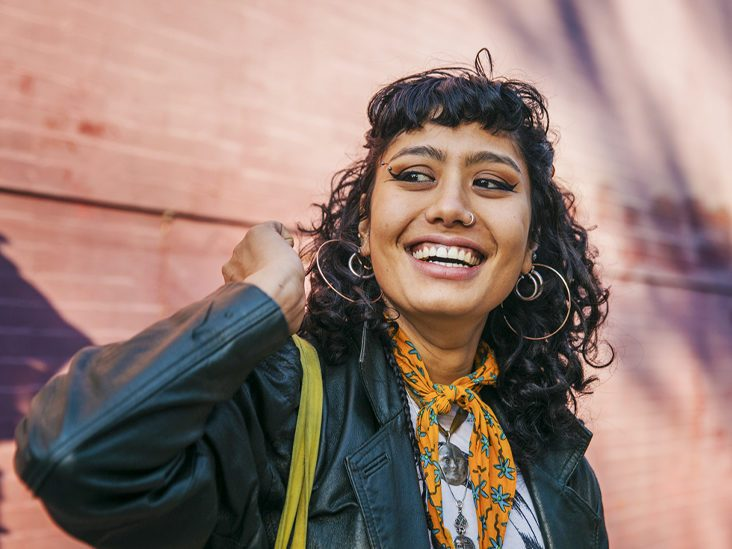bare: (363, 200, 532, 317)
